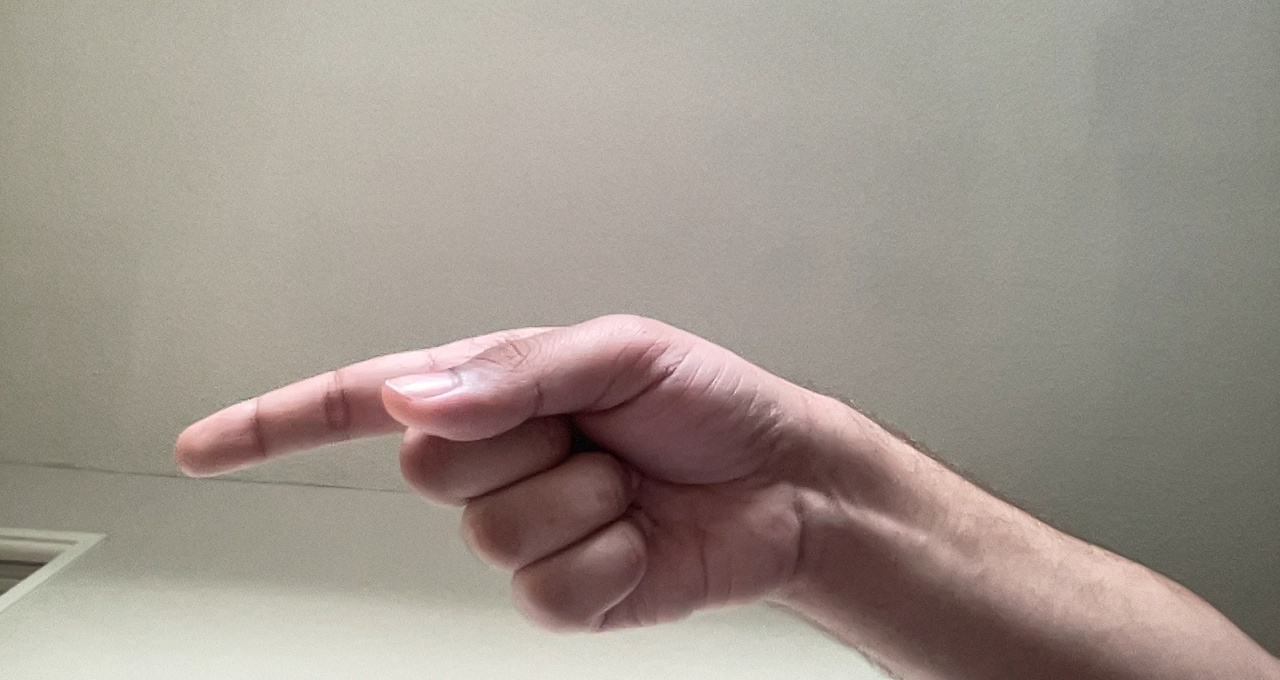fingerright: (161, 301, 811, 633)
